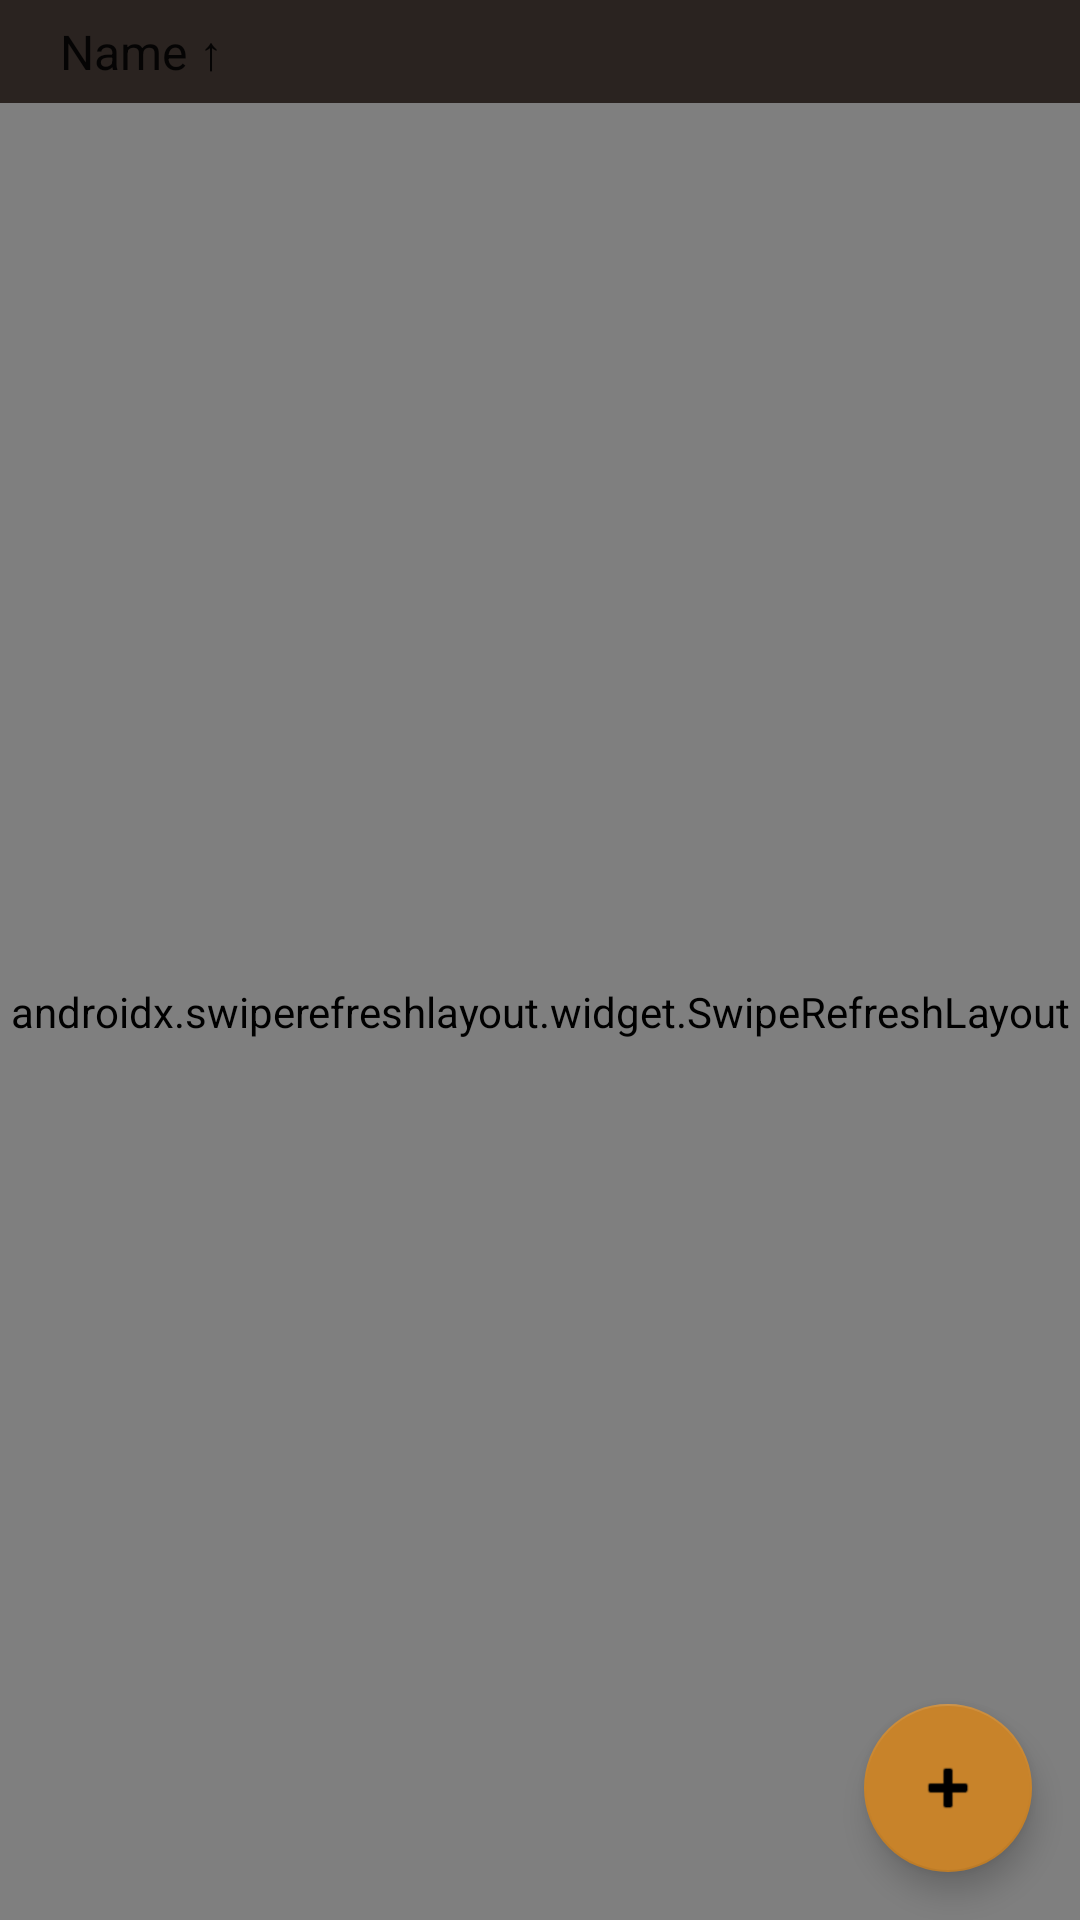

Icons on this 1080px×1920px Android screen, each with the point to tap as (x=x, y=y):
Add to wishlist: (x=948, y=1788)
